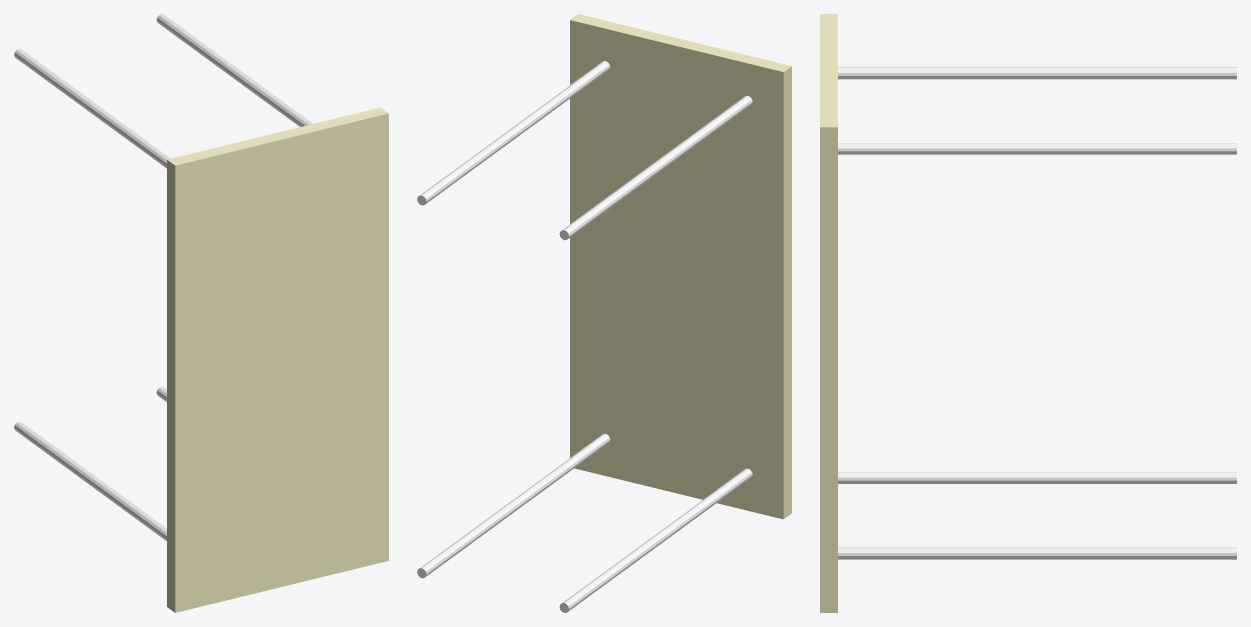
The model's file is nil_link_mesh.dae.
3 renders of one model, left to right at view 1: azimuth 30°, elevation 25°; view 2: azimuth 150°, elevation 25°; view 3: azimuth 270°, elevation 25°, orthographic. The views are drawn at different scales.
Parts seen in each view (by area): view 1: nil_link (×4); view 2: nil_link (×5); view 3: nil_link (×5).
Boxes of the visible parts, left/top/right/bottom form: nil_link (×4): left=14, top=14, right=388, bottom=612; nil_link (×5): left=417, top=14, right=791, bottom=612; nil_link (×5): left=820, top=14, right=1236, bottom=612.
Size of the model in its own units: 0.45 by 0.9 by 0.7.
